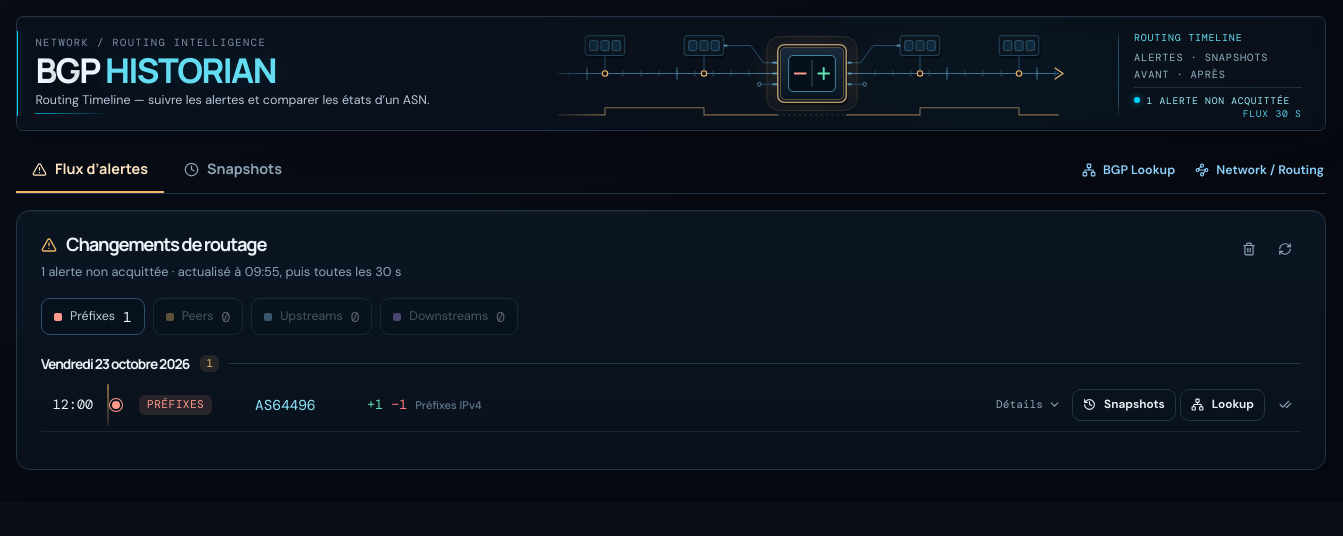
BGP Historian presentation and navigation › shows alerts sent with the Go field names and opens their exact changes
This screenshot has width=1343, height=536.
Check: the text "AS64496" is shown, box [255,396,316,414]
Check: the text "+1" is shown, box [367,398,383,412]
Click the button "Détails" at coordinates (1029, 405), box [989,389,1068,421]
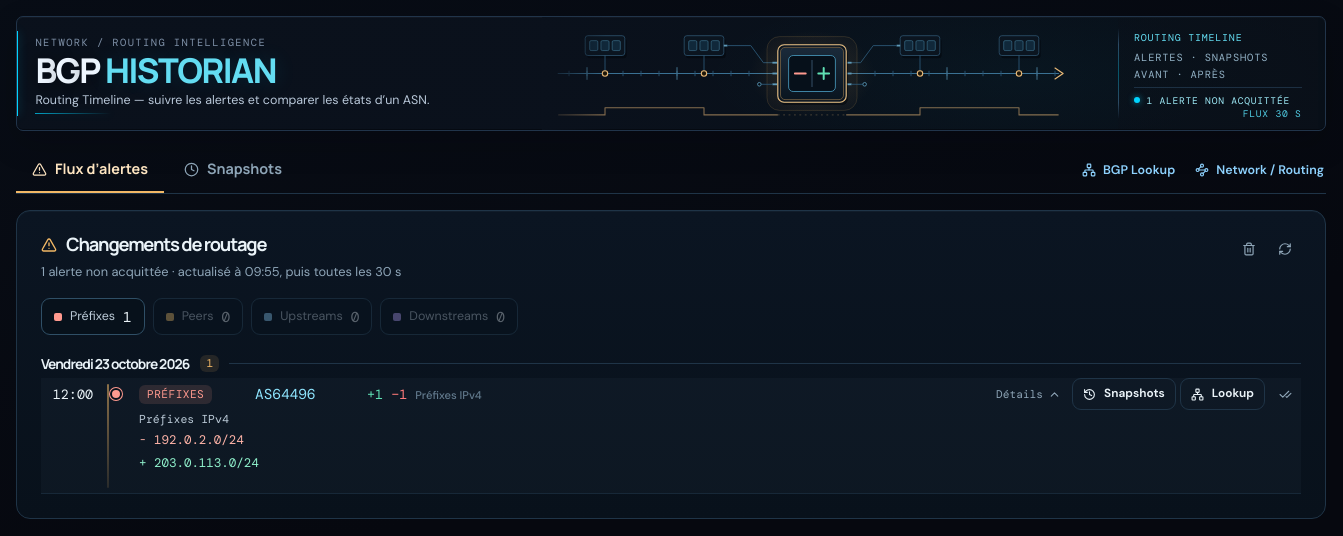
Check: the list item "+ 203.0.113.0/24" is shown, box [139,455,259,471]
Check: the list item "- 192.0.2.0/24" is shown, box [139,432,244,448]
